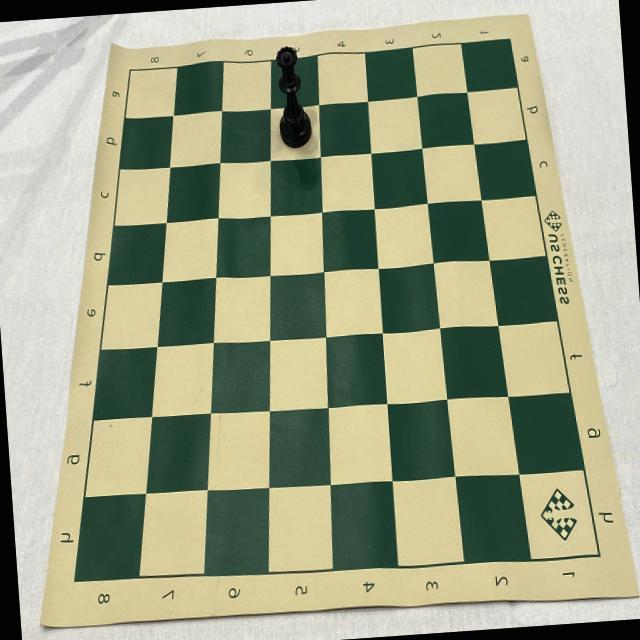black-queen: (273, 44, 313, 150)
